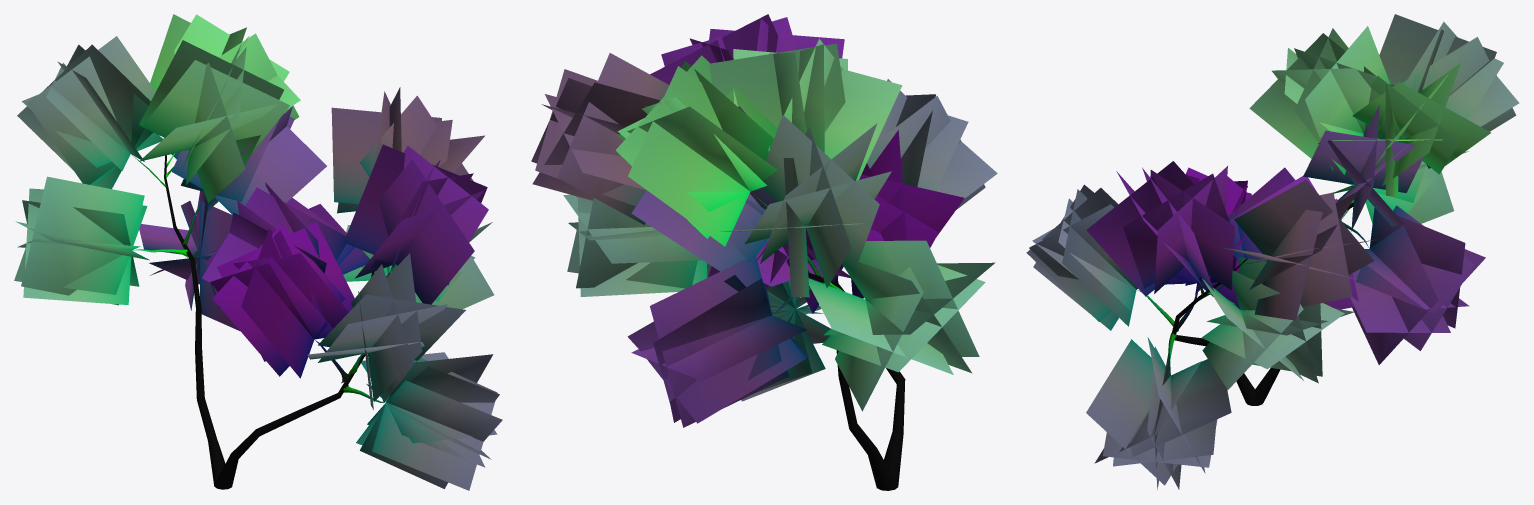
The model's file is URP_P6_Tree_6_LOD_2.fbx.
3 views of the same model, side by side, from view 1: azimuth 30°, elevation 25°; view 2: azimuth 150°, elevation 25°; view 3: azimuth 270°, elevation 25° (orthographic). The views are drawn at different scales.
Parts seen in each view (by area): view 1: Tree_6_LOD_2; view 2: Tree_6_LOD_2; view 3: Tree_6_LOD_2.
Boxes of the visible parts, <box> form: Tree_6_LOD_2: <box>14,14,502,490</box>; Tree_6_LOD_2: <box>531,14,997,490</box>; Tree_6_LOD_2: <box>1026,14,1519,489</box>.
Bounding box in the file's own units: 670 × 630 × 716.
